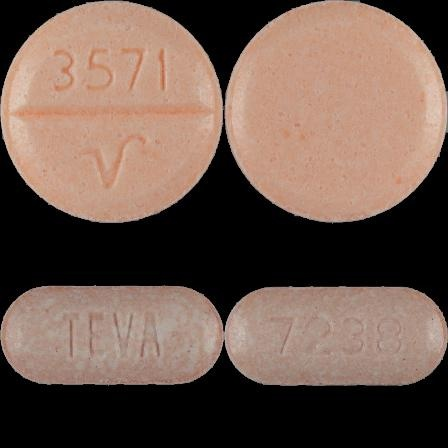68645-341: (0, 0, 224, 224)
